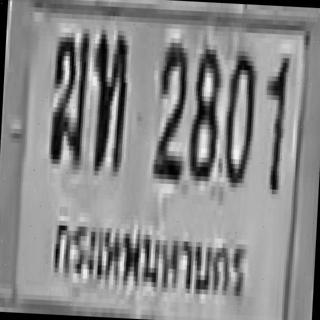A06: (47, 27, 89, 160)
A23: (88, 29, 128, 172)
N00: (222, 45, 257, 184)
N01: (260, 52, 288, 190)
N02: (152, 38, 188, 176)
N08: (186, 44, 221, 177)
P04: (49, 206, 259, 310)
